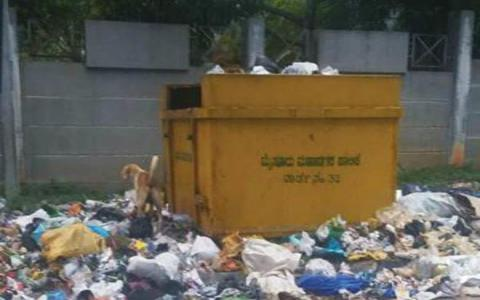overflowing garbage: (147, 62, 442, 297)
